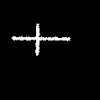single_crochet: (12, 24, 69, 54)
